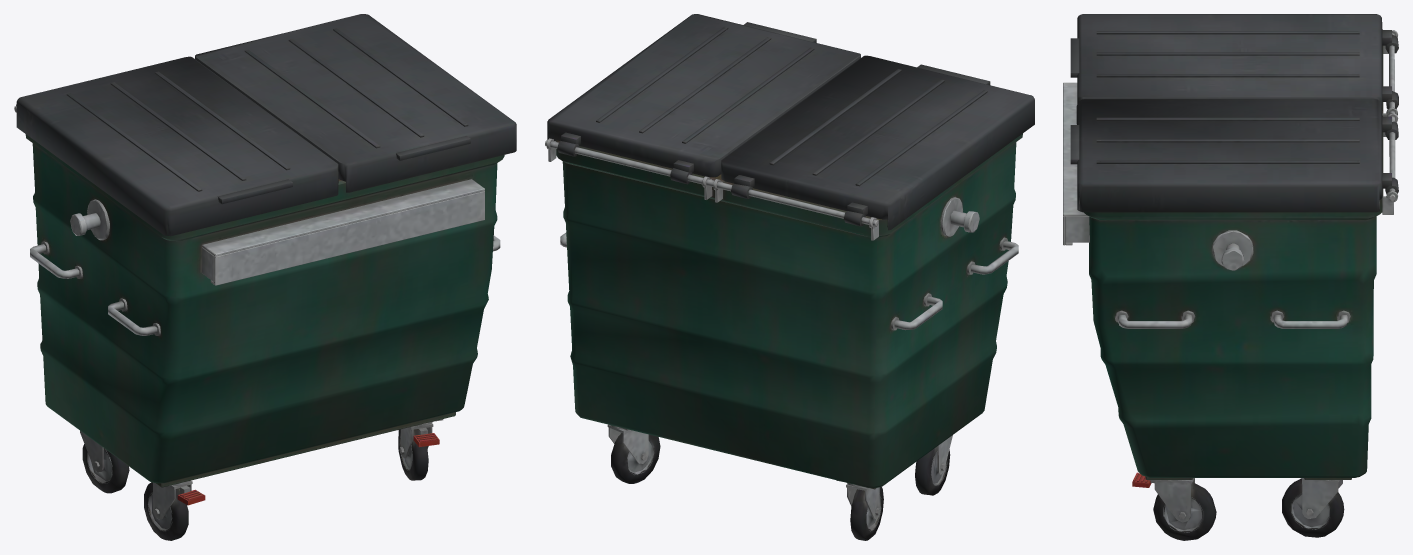
Rendered from dumpster.glb.
3 renders of one model, left to right at view 1: azimuth 30°, elevation 25°; view 2: azimuth 150°, elevation 25°; view 3: azimuth 270°, elevation 25°, orthographic. The views are drawn at different scales.
Parts seen in each view (by area): view 1: dumpster_body; view 2: dumpster_body; view 3: dumpster_body.
Boxes of the visible parts, x1,y1,x2,y2 form: dumpster_body: [14, 14, 516, 540]; dumpster_body: [545, 14, 1034, 540]; dumpster_body: [1063, 14, 1398, 540].
Bounding box in the file's own units: 1.38 × 1.33 × 1.06.
1 material, 1 textured.
